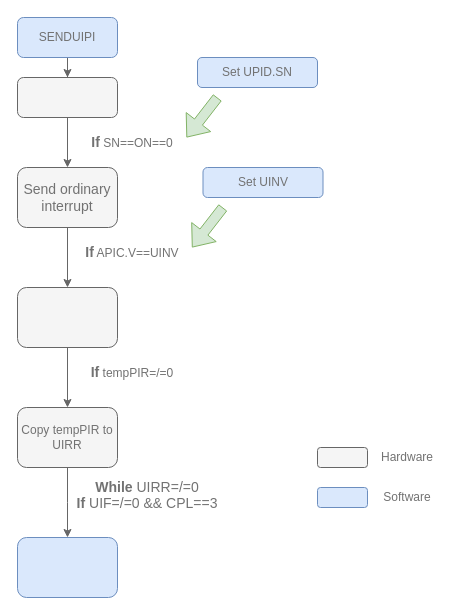
This 455x615 diagram has some shape labels left out. The centre of each missing label's shape, as x and y in pixels:
Copy UPID.PIR to tempPIR: point 67,317
Delivery (Handler): point 67,567
Set UPID.PIR: point 67,97
